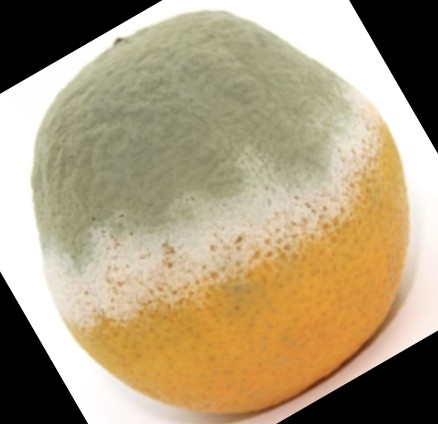rotten_orange: (33, 10, 410, 415)
